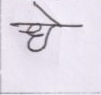e_matra: (32, 3, 62, 24)
